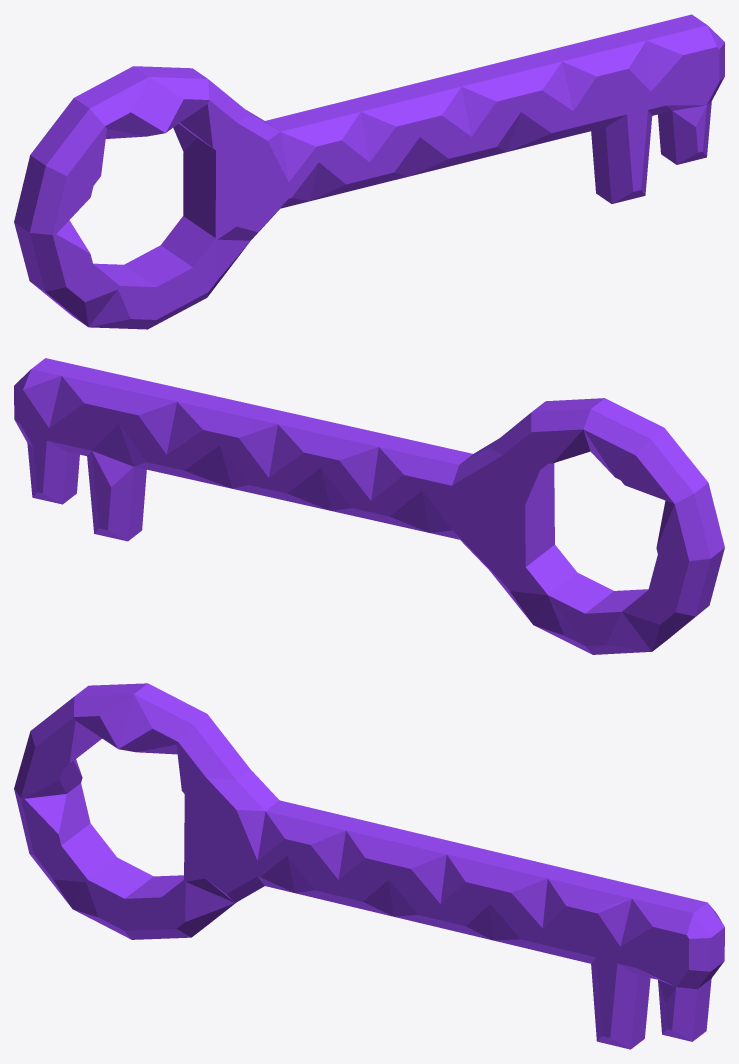
File: purple_key.glb
3 views of the same model, one above another, from view 1: azimuth 30°, elevation 25°; view 2: azimuth 150°, elevation 25°; view 3: azimuth 330°, elevation 25° (orthographic). The views are drawn at different scales.
Parts seen in each view (by area): view 1: Circle.024; view 2: Circle.024; view 3: Circle.024.
Part boxes in pixels (x1,y1,x2,y2): Circle.024: [14, 14, 724, 329]; Circle.024: [14, 358, 724, 654]; Circle.024: [14, 683, 724, 1049].
Size of the model in its own units: 1.89 by 0.6456 by 0.2172.
Materials: 1 (1 with a texture image).
